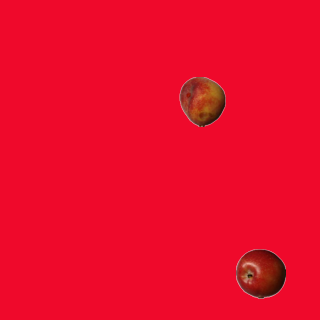Apple Braeburn: (235, 248, 285, 298)
Peach: (177, 76, 227, 126)
